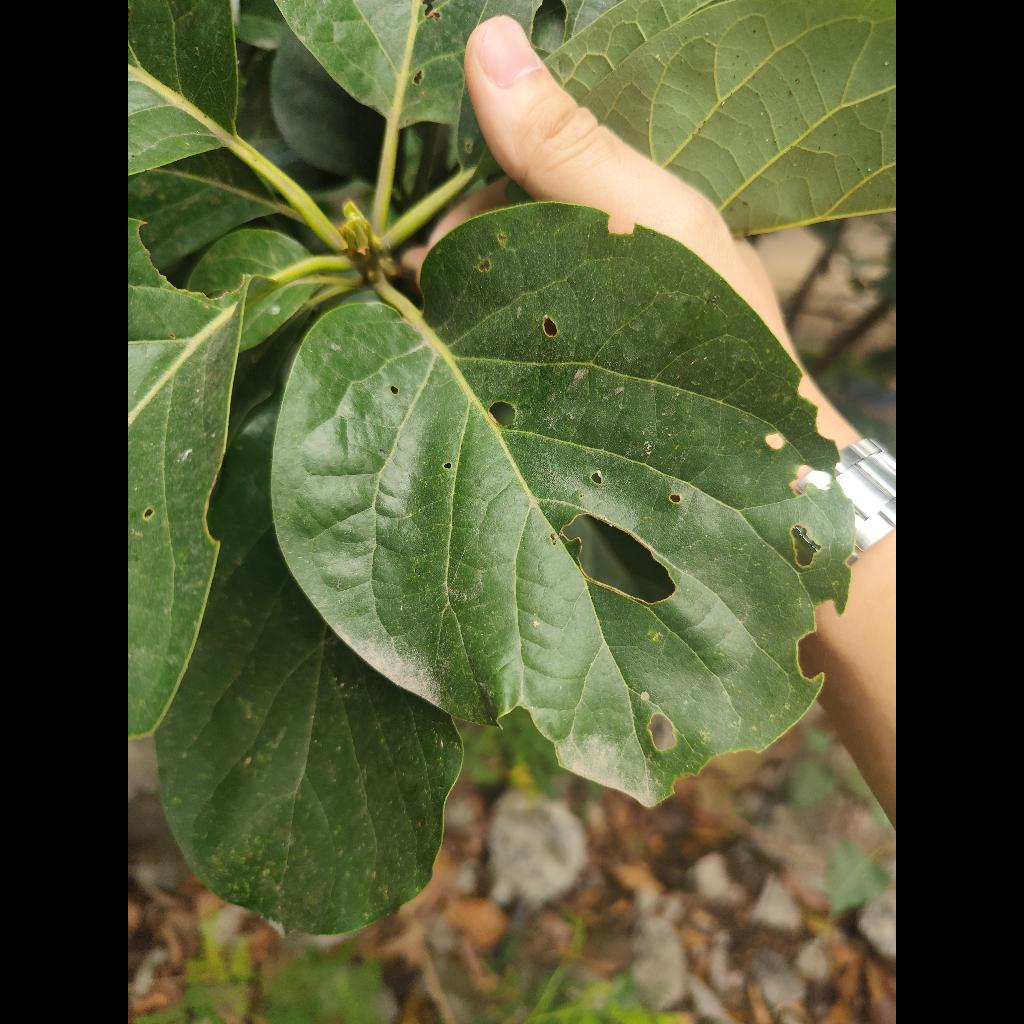Pest Infested: (273, 204, 850, 803)
